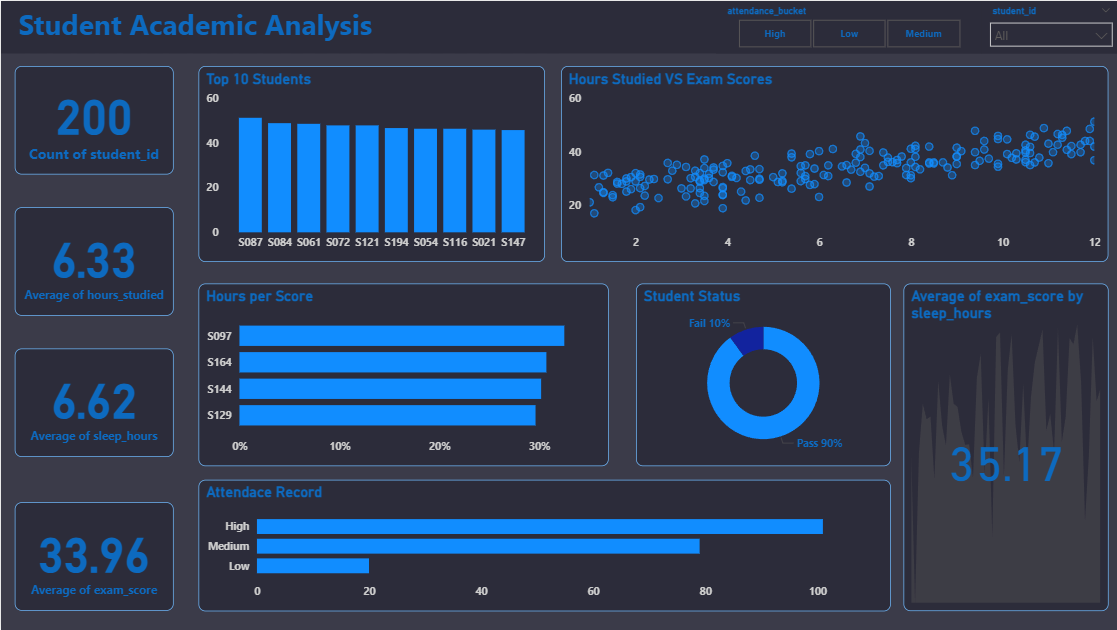

The page's visual inventory and layout, read from the dashboard file:
{"tool":"powerbi","page":{"name":"Page 1","canvas":[1280,720],"ordinal":0},"visuals":[{"type":"textbox","box":[0,0,1280,60],"z":0},{"type":"card","fields":{"Values":["Count(student_exam_scores.student_id)"]},"box":[15.7,74.3,181.4,124.3],"z":1000},{"type":"card","fields":{"Values":["Avg(student_exam_scores.hours_studied)"]},"box":[15.7,235.7,181.4,124.3],"z":2000},{"type":"card","fields":{"Values":["Avg(student_exam_scores.sleep_hours)"]},"box":[15.7,397.1,181.4,124.3],"z":3000},{"type":"card","fields":{"Values":["Avg(student_exam_scores.exam_score)"]},"box":[15.7,572.9,181.4,124.3],"z":4000},{"type":"scatterChart","title":"Hours Studied VS Exam Scores","fields":{"X":["Sum(student_exam_scores.hours_studied)"],"Y":["Sum(student_exam_scores.exam_score)"],"Category":["student_exam_scores.student_id"]},"box":[640,74.3,625.7,224.3],"z":5000},{"type":"barChart","title":"Hours per Score","fields":{"Y":["Sum(student_exam_scores.Hours_per_score)"],"Category":["student_exam_scores.student_id"]},"box":[225.7,322.9,468.6,208.6],"z":6000},{"type":"lineClusteredColumnComboChart","title":"Top 10 Students","fields":{"Category":["student_exam_scores.student_id"],"Y":["Sum(student_exam_scores.exam_score)"]},"box":[225.7,74.3,395.7,224.3],"z":7000},{"type":"slicer","title":"Student","fields":{"Values":["student_exam_scores.student_id"]},"box":[1120,0,160,60],"z":8000},{"type":"donutChart","title":"Student Status","fields":{"Category":["student_exam_scores.student_status"],"Y":["CountNonNull(student_exam_scores.student_id)"]},"box":[725.7,322.9,291.4,208.6],"z":9000},{"type":"barChart","title":"Attendace Record","fields":{"Category":["student_exam_scores.attendance_bucket"],"Y":["CountNonNull(student_exam_scores.student_id)"]},"box":[225.7,547.1,791.4,150],"z":10000},{"type":"kpi","fields":{"TrendLine":["student_exam_scores.sleep_hours"],"Indicator":["Avg(student_exam_scores.exam_score)"]},"box":[1031.4,322.9,234.3,374.3],"z":11000},{"type":"slicer","title":"Student","fields":{"Values":["student_exam_scores.attendance_bucket"]},"box":[817.1,0,302.9,60],"z":12000}]}

Visuals, with their boxes in screenshot pixels (x1, y1, x2, y2), scaled from the page's 1280x720 canvas onto the 1117x630 screenshot:
textbox: region(0, 0, 1116, 52)
card - Count(student_exam_scores.student_id): region(14, 65, 172, 174)
card - Avg(student_exam_scores.hours_studied): region(14, 206, 172, 315)
card - Avg(student_exam_scores.sleep_hours): region(14, 347, 172, 456)
card - Avg(student_exam_scores.exam_score): region(14, 501, 172, 610)
"Hours Studied VS Exam Scores" scatterChart: region(558, 65, 1105, 261)
"Hours per Score" barChart: region(197, 283, 606, 465)
"Top 10 Students" lineClusteredColumnComboChart: region(197, 65, 542, 261)
"Student" slicer: region(977, 0, 1116, 52)
"Student Status" donutChart: region(633, 283, 888, 465)
"Attendace Record" barChart: region(197, 479, 888, 610)
kpi - student_exam_scores.sleep_hours x Avg(student_exam_scores.exam_score): region(900, 283, 1105, 610)
"Student" slicer: region(713, 0, 977, 52)
